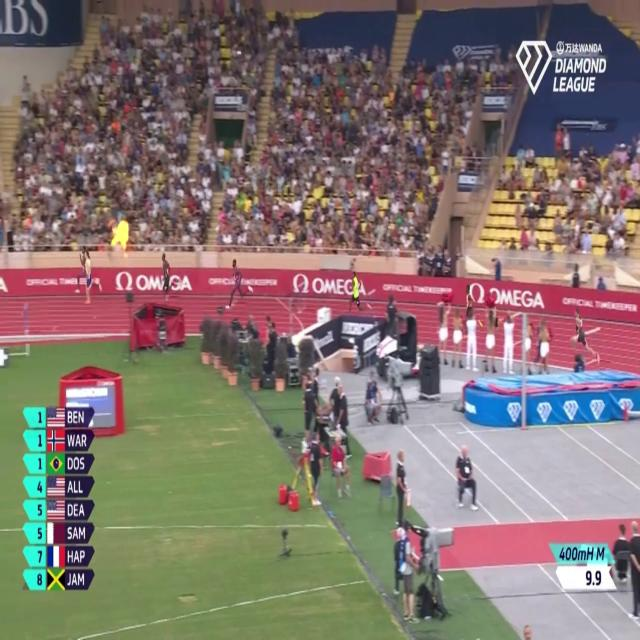athlete: (569, 302, 604, 378), (224, 254, 254, 313), (72, 244, 103, 300), (459, 278, 485, 338), (346, 265, 374, 319), (157, 248, 176, 310), (82, 249, 100, 311)
hurdle: (572, 327, 606, 371), (502, 308, 529, 354), (287, 277, 316, 317), (16, 297, 36, 338)
